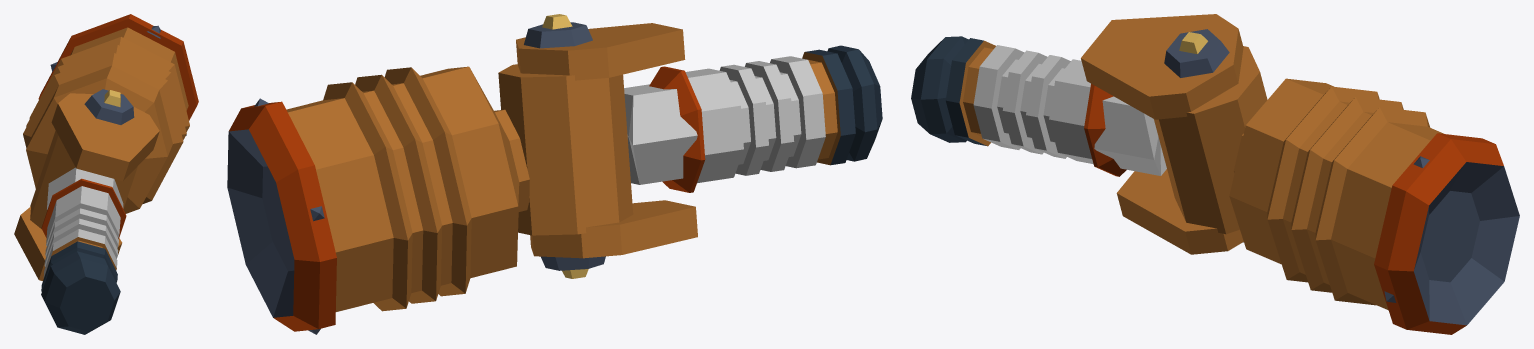
Rendered from vial-bandolier-cuff-6c409f.glb.
The picture shows the model from 3 angles, left to right: view 1: azimuth 30°, elevation 25°; view 2: azimuth 150°, elevation 25°; view 3: azimuth 270°, elevation 25°; orthographic projection. The views are drawn at different scales.
Visible parts, largest first — view 1: thumb-phalanx-proximal, thumb-phalanx-distal; view 2: thumb-phalanx-proximal, thumb-phalanx-distal; view 3: thumb-phalanx-proximal, thumb-phalanx-distal.
Boxes of the visible parts, left/top/right/bottom form: thumb-phalanx-proximal: left=14, top=14, right=198, bottom=280; thumb-phalanx-distal: left=41, top=167, right=126, bottom=334; thumb-phalanx-proximal: left=227, top=14, right=697, bottom=334; thumb-phalanx-distal: left=624, top=45, right=882, bottom=192; thumb-phalanx-proximal: left=1081, top=14, right=1519, bottom=334; thumb-phalanx-distal: left=911, top=36, right=1166, bottom=176.
Size of the model in its own units: 0.0428 by 0.0242 by 0.0555.
